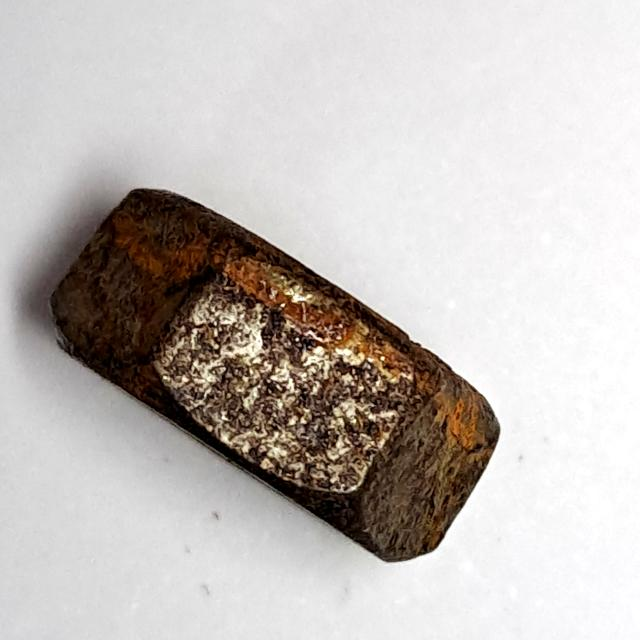Side_Rust: (38, 177, 513, 579)
